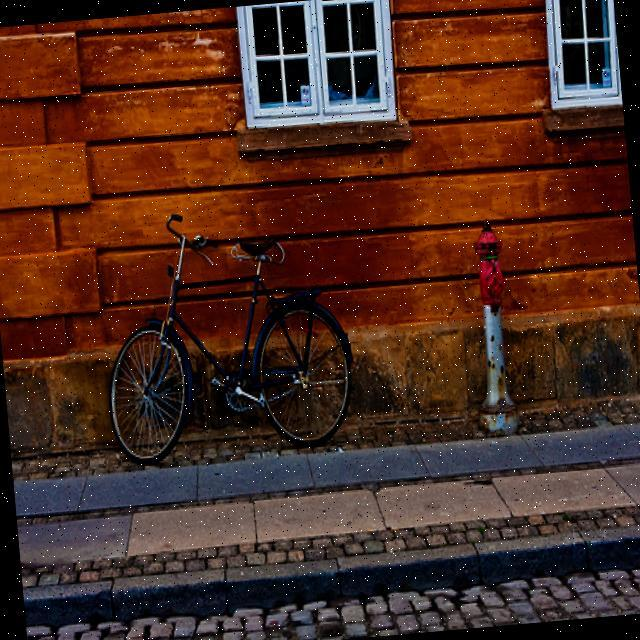fire_hydrant: (462, 216, 526, 440)
